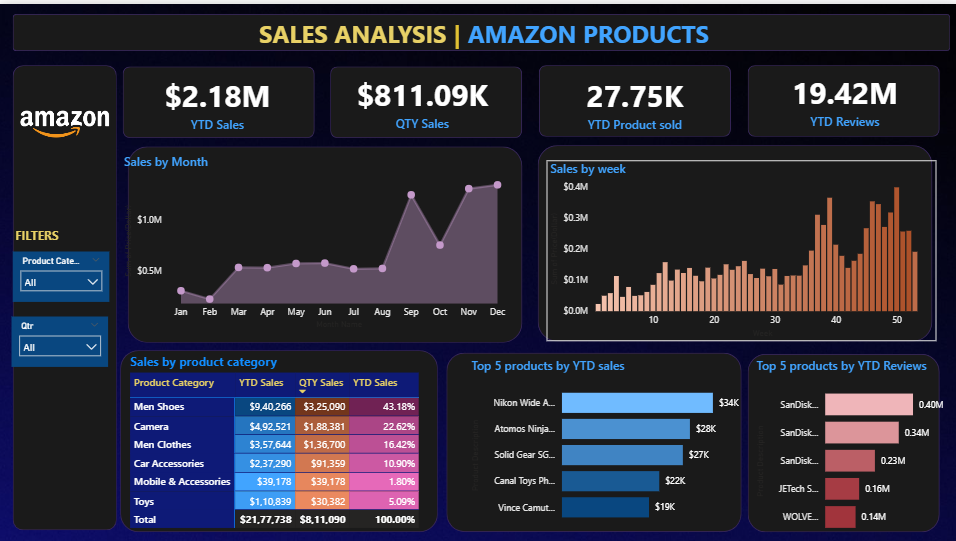

What the dashboard file says about the page in this screenshot:
{"tool":"powerbi","page":{"name":"Page 1","canvas":[1280,720],"ordinal":0},"visuals":[{"type":"shape","box":[171.1,189.4,526,261.8],"z":0},{"type":"shape","box":[18.1,13.3,1249.9,49.5],"z":1000},{"type":"textbox","box":[341.4,13.3,704.6,63.9],"z":2000},{"type":"shape","box":[442.4,83,255.8,95.3],"z":3000},{"type":"shape","box":[18.1,82,138.7,620.1],"z":4000},{"type":"shape","box":[164.6,83,255.8,95.3],"z":5000},{"type":"card","fields":{"Values":["Amazon_Data.QTY Sales"]},"box":[434.3,83.2,259.4,94.1],"z":6000},{"type":"shape","box":[998.2,81.8,255.8,95.3],"z":7000},{"type":"shape","box":[720.3,81.8,255.8,95.3],"z":8000},{"type":"card","fields":{"Values":["Amazon_Data.YTD Sales"]},"box":[161.7,84.7,259.4,94.1],"z":9000},{"type":"card","fields":{"Values":["Amazon_Data.YTD Product sold"]},"box":[717.8,84.7,259.4,94.1],"z":10000},{"type":"card","fields":{"Values":["Amazon_Data.YTD Reviews"]},"box":[997.7,82.3,259.4,94.1],"z":11000},{"type":"shape","box":[161.7,462.1,423.5,242.5],"z":12000},{"type":"areaChart","title":"Sales by Month","fields":{"Category":["Date Table.Month Name"],"Y":["Sum(Amazon_Data.Price(Dollar))"]},"box":[161.7,199.1,523.6,240.1],"z":13000},{"type":"shape","box":[717.8,188.2,526,261.8],"z":14000},{"type":"columnChart","title":"Sales by week","fields":{"Category":["Date Table.Week"],"Y":["Sum(Amazon_Data.Price(Dollar))"]},"box":[729.9,208.7,520,241.3],"z":15000},{"type":"shape","box":[997.7,466.9,255.8,237.7],"z":16000},{"type":"shape","box":[597.2,465.7,393.3,238.9],"z":17000},{"type":"pivotTable","title":"Sales by product category","fields":{"Rows":["Amazon_Data.Product Category"],"Values":["Amazon_Data.YTD Sales1","Amazon_Data.QTY Sales","Amazon_Data.YTD Sales"]},"box":[170.1,464.5,415,238.9],"z":18000},{"type":"barChart","title":"Top 5 products  by YTD sales","fields":{"Category":["Amazon_Data.Product Description"],"Y":["Amazon_Data.YTD Sales"]},"box":[624.4,470.7,380.1,234.6],"z":19000},{"type":"barChart","title":"Top 5 products  by YTD Reviews","fields":{"Category":["Amazon_Data.Product Description"],"Y":["Amazon_Data.YTD Reviews"]},"box":[1005,470.5,263,249.7],"z":20000},{"type":"slicer","fields":{"Values":["Amazon_Data.Product Category"]},"box":[18.1,329.4,129.1,67.6],"z":21000},{"type":"slicer","fields":{"Values":["Date Table.Qtr"]},"box":[16.9,417.4,129.1,67.6],"z":22000},{"type":"textbox","box":[16.9,292,123.1,37.4],"z":22001},{"type":"image","box":[27.7,112.2,118.2,96.5],"z":22003}]}

Visuals, with their boxes in screenshot pixels (x1, y1, x2, y2), scaled from the page's 1280x720 canvas onto the 956x541 screenshot:
shape: <region>128, 142, 521, 339</region>
shape: <region>14, 10, 947, 47</region>
textbox: <region>255, 10, 781, 58</region>
shape: <region>330, 62, 521, 134</region>
shape: <region>14, 62, 117, 528</region>
shape: <region>123, 62, 314, 134</region>
card - Amazon_Data.QTY Sales: <region>324, 63, 518, 133</region>
shape: <region>746, 61, 937, 133</region>
shape: <region>538, 61, 729, 133</region>
card - Amazon_Data.YTD Sales: <region>121, 64, 315, 134</region>
card - Amazon_Data.YTD Product sold: <region>536, 64, 730, 134</region>
card - Amazon_Data.YTD Reviews: <region>745, 62, 939, 133</region>
shape: <region>121, 347, 437, 529</region>
"Sales by Month" areaChart: <region>121, 150, 512, 330</region>
shape: <region>536, 141, 929, 338</region>
"Sales by week" columnChart: <region>545, 157, 934, 338</region>
shape: <region>745, 351, 936, 529</region>
shape: <region>446, 350, 740, 529</region>
"Sales by product category" pivotTable: <region>127, 349, 437, 529</region>
"Top 5 products  by YTD sales" barChart: <region>466, 354, 750, 530</region>
"Top 5 products  by YTD Reviews" barChart: <region>751, 354, 947, 540</region>
slicer - Amazon_Data.Product Category: <region>14, 248, 110, 298</region>
slicer - Date Table.Qtr: <region>13, 314, 109, 364</region>
textbox: <region>13, 219, 105, 248</region>
image: <region>21, 84, 109, 157</region>
